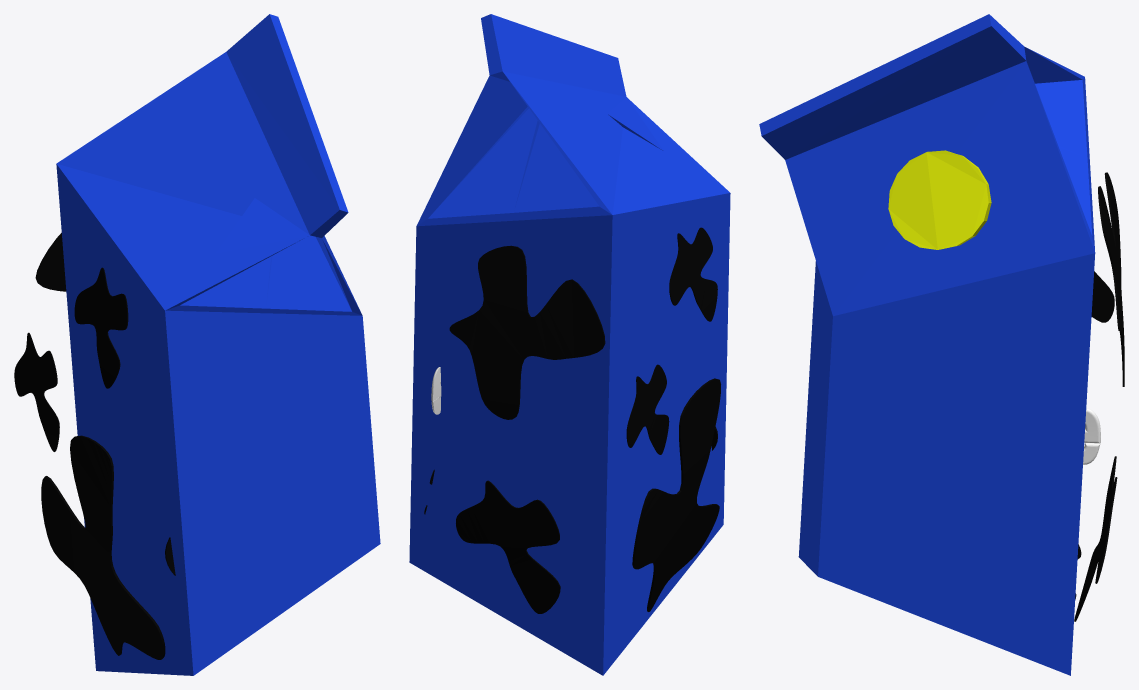
Rendered from bend_high_0.obj.
3 renders of one model, left to right at view 1: azimuth 30°, elevation 25°; view 2: azimuth 150°, elevation 25°; view 3: azimuth 270°, elevation 25°, orthographic. The views are drawn at different scales.
Visible parts, largest first — view 1: model; view 2: model; view 3: model.
Part boxes in pixels (x1,y1,x2,y2): model: (14,14,380,675); model: (409,14,730,675); model: (759,14,1124,675).
Bounding box in the file's own units: 0.0958 × 0.2349 × 0.1076.
Materials: 1 (1 with a texture image).
